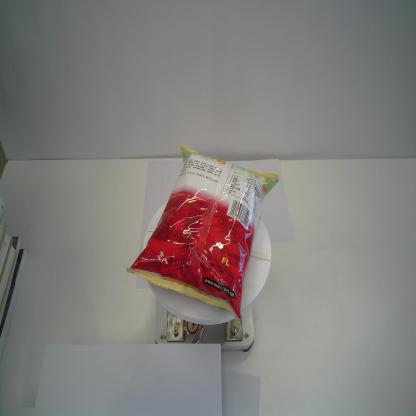Puffed Food: (123, 140, 281, 327)
